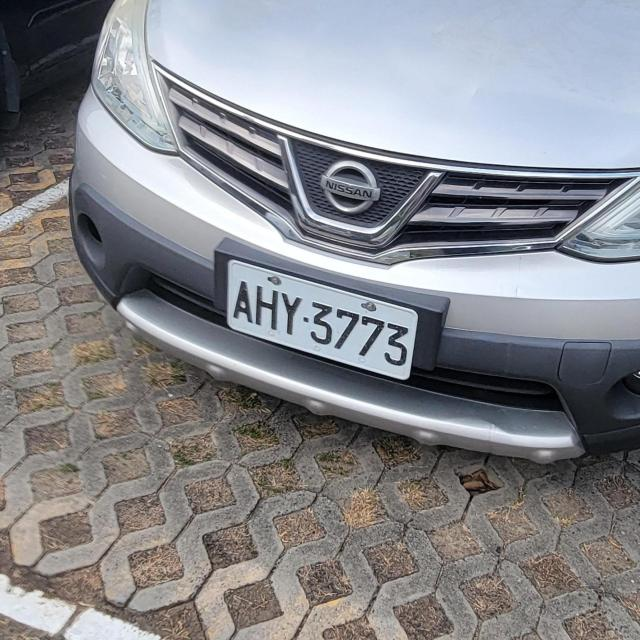W: (219, 262, 424, 382)
